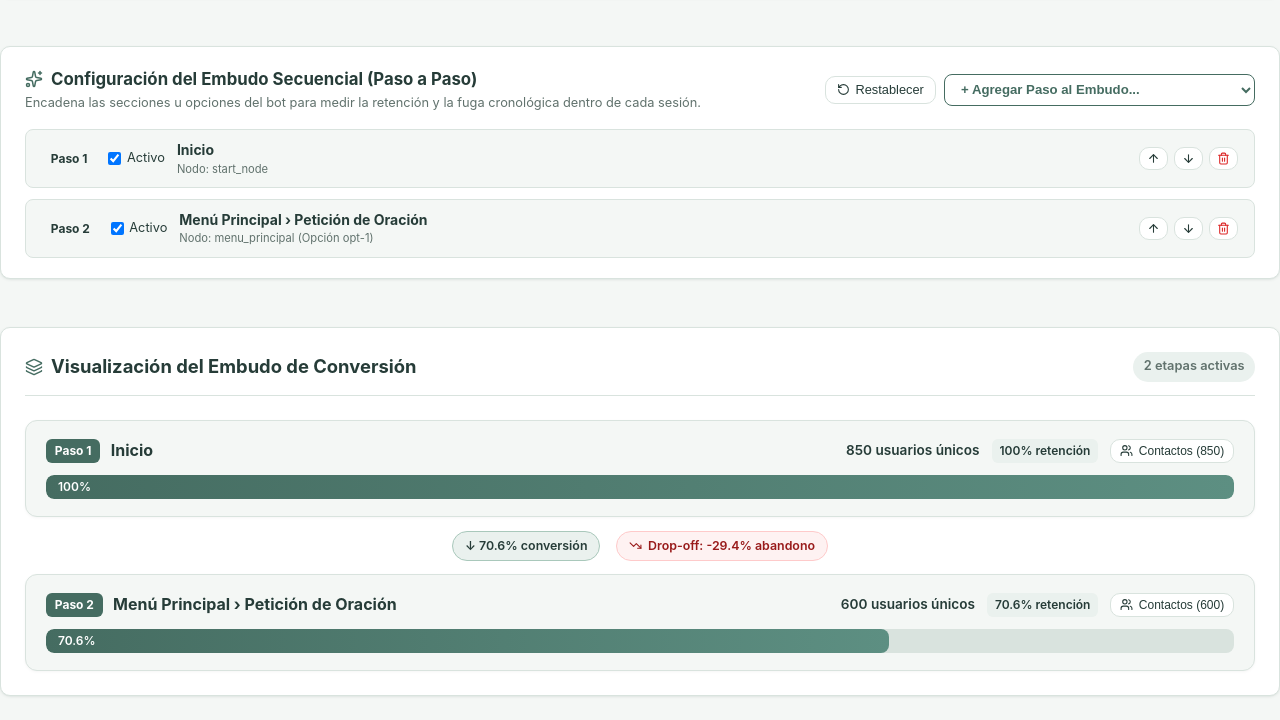
Test: DashboardsView & Analytics Tabs (Fase 1 y Fase 2) › opens FunnelContactsModal for sequential step and displays drill-down list
(page scrolled)
Expected: the element with test id "funnel-step-card-1" is shown, left=25, top=420, right=1255, bottom=517
Click the button with test id "funnel-step-contacts-btn-1".
click(1172, 451)  # box left=1110, top=439, right=1234, bottom=463
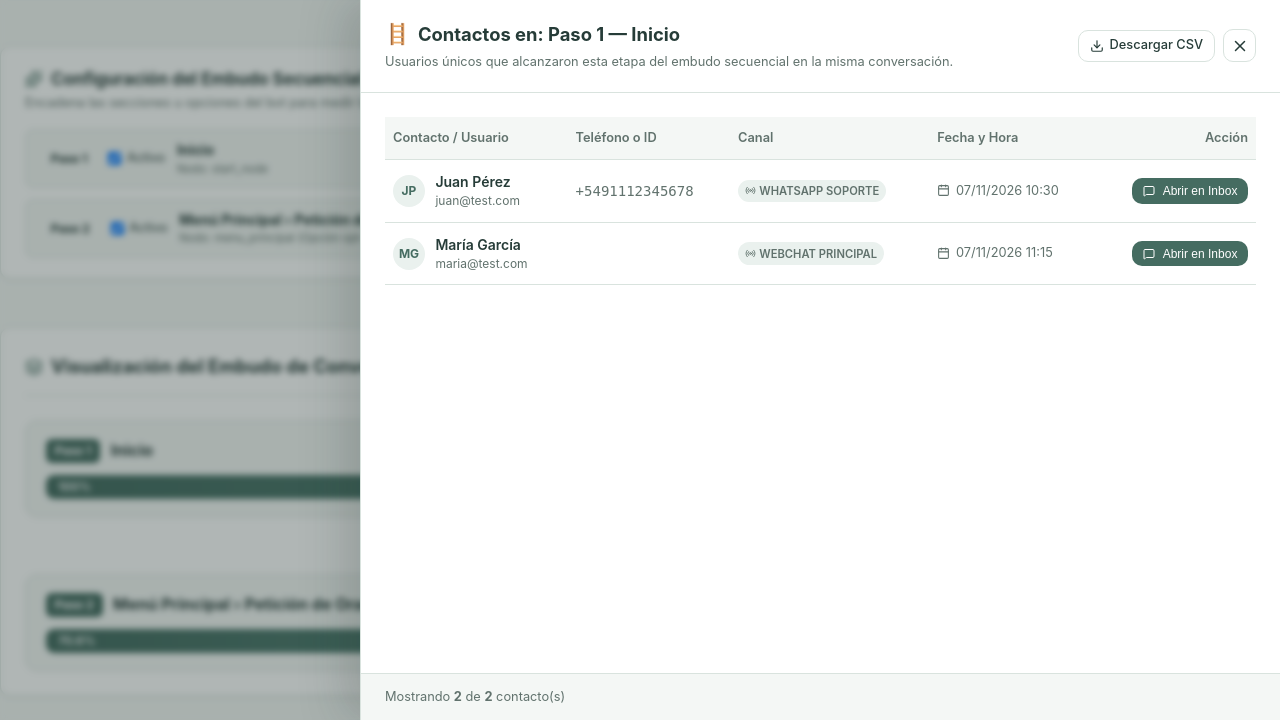
Expected: the heading "Contactos en: Paso 1 — Inicio" is shown, left=418, top=21, right=680, bottom=48
Expected: the text "Juan Pérez" is shown, left=435, top=172, right=520, bottom=192
Close modal
Click the button with test id "close-modal-btn".
click(1240, 46)  # box left=1223, top=29, right=1256, bottom=62
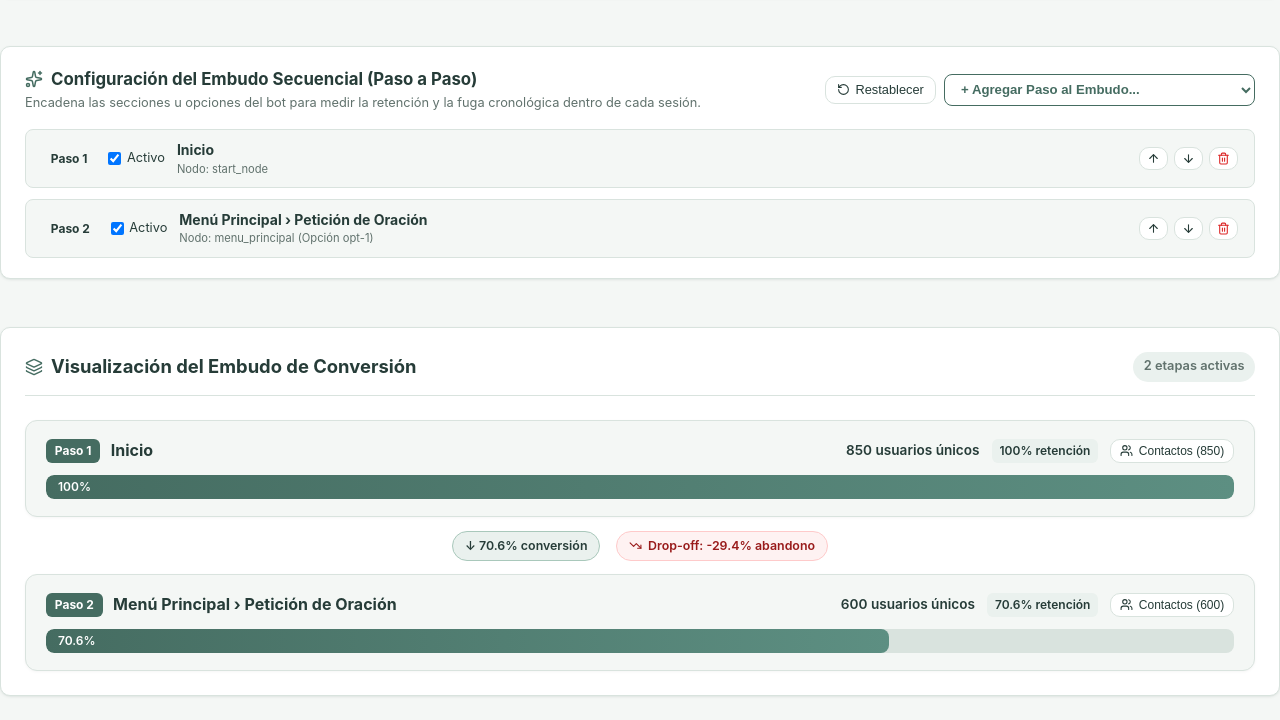
Expected: the heading "Contactos en: Paso 1" is gone
